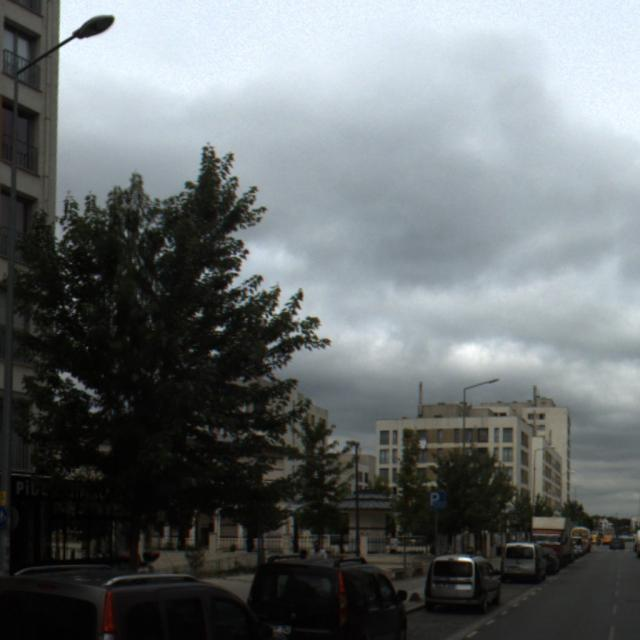SignStore: (10, 476, 112, 502)
